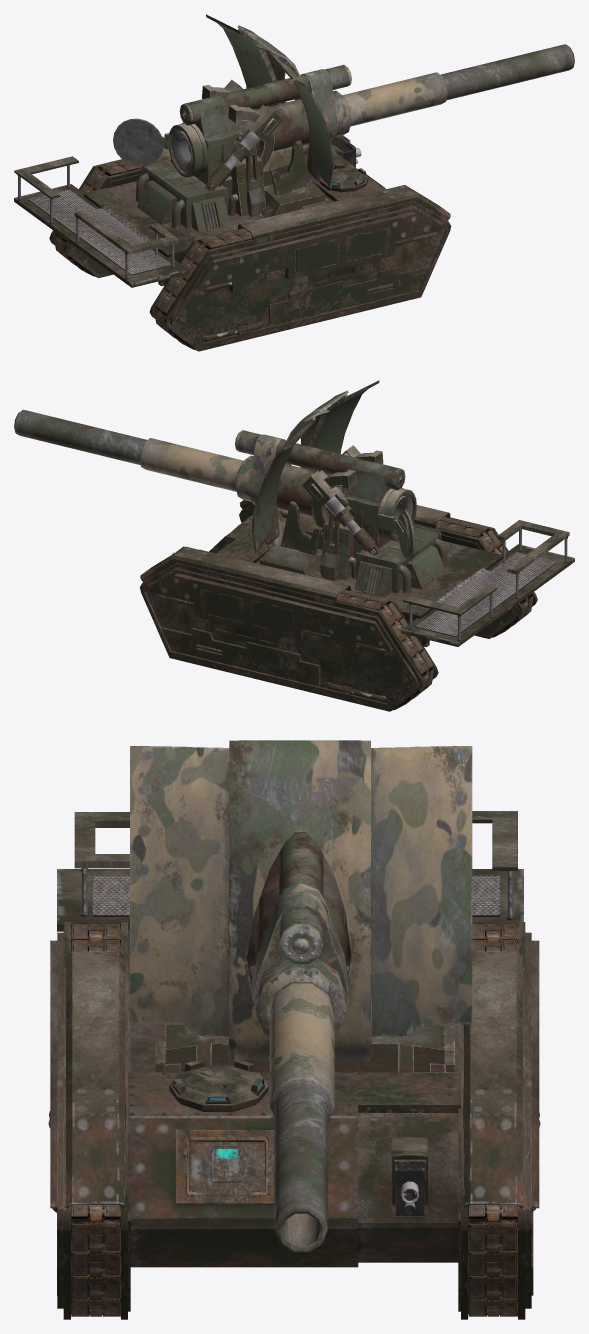
3 renders of one model, top to bottom at view 1: azimuth 30°, elevation 25°; view 2: azimuth 150°, elevation 25°; view 3: azimuth 270°, elevation 25°, orthographic. The views are drawn at different scales.
Visible parts, largest first — view 1: Box003, Parte2, Box005, Cylinder009, Cylinder014, Set202, Box001, Parte003, Cylinder021, Box020, Cylinder010, Orugas_I026 (+14 smaller); view 2: Box003, Parte2, Box005, Cylinder009, Box001, Cylinder014, Parte003, Set202, Box081, Cylinder021, Cylinder010, Box026 (+17 smaller); view 3: Cylinder014, Box001, Box003, Cylinder018, Box081, Cylinder009, Cylinder021, Box085, Orugas_I026, Cylinder010, Orugas_I025, Box024 (+8 smaller).
Part boxes in pixels (x1=…): Box003: x1=49, y1=139, x2=451, y2=351; Parte2: x1=195, y1=212, x2=442, y2=293; Box005: x1=14, y1=184, x2=189, y2=287; Cylinder009: x1=179, y1=64, x2=351, y2=151; Cylinder014: x1=206, y1=14, x2=334, y2=188; Set202: x1=137, y1=159, x2=229, y2=232; Box001: x1=83, y1=144, x2=385, y2=282; Parte003: x1=268, y1=266, x2=429, y2=324; Cylinder021: x1=440, y1=44, x2=574, y2=100; Box020: x1=205, y1=79, x2=283, y2=216; Cylinder010: x1=343, y1=72, x2=447, y2=126; Orugas_I026: x1=154, y1=228, x2=252, y2=350; Box003: x1=140, y1=500, x2=537, y2=711; Parte2: x1=147, y1=573, x2=393, y2=653; Box005: x1=401, y1=544, x2=574, y2=646; Cylinder009: x1=235, y1=430, x2=405, y2=515; Box001: x1=209, y1=516, x2=502, y2=642; Cylinder014: x1=252, y1=380, x2=379, y2=553; Parte003: x1=161, y1=627, x2=320, y2=685; Set202: x1=354, y1=524, x2=445, y2=597; Box081: x1=140, y1=546, x2=350, y2=601; Cylinder021: x1=14, y1=409, x2=146, y2=464; Cylinder010: x1=139, y1=438, x2=243, y2=491; Box026: x1=339, y1=466, x2=403, y2=554; Cylinder014: x1=130, y1=746, x2=472, y2=1036; Box001: x1=128, y1=915, x2=460, y2=1267; Box003: x1=48, y1=922, x2=535, y2=1319; Cylinder018: x1=228, y1=740, x2=371, y2=1060; Box081: x1=464, y1=951, x2=522, y2=1208; Cylinder009: x1=255, y1=833, x2=346, y2=1036; Cylinder021: x1=274, y1=1083, x2=327, y2=1252; Box085: x1=176, y1=1130, x2=274, y2=1204; Orugas_I026: x1=71, y1=923, x2=120, y2=1316; Cylinder010: x1=269, y1=983, x2=334, y2=1122; Orugas_I025: x1=468, y1=923, x2=517, y2=1316; Box024: x1=155, y1=1025, x2=454, y2=1072.
Bounding box in the file's own units: 2 × 0.927 × 0.8604.
Materials: 5 (5 with a texture image).
